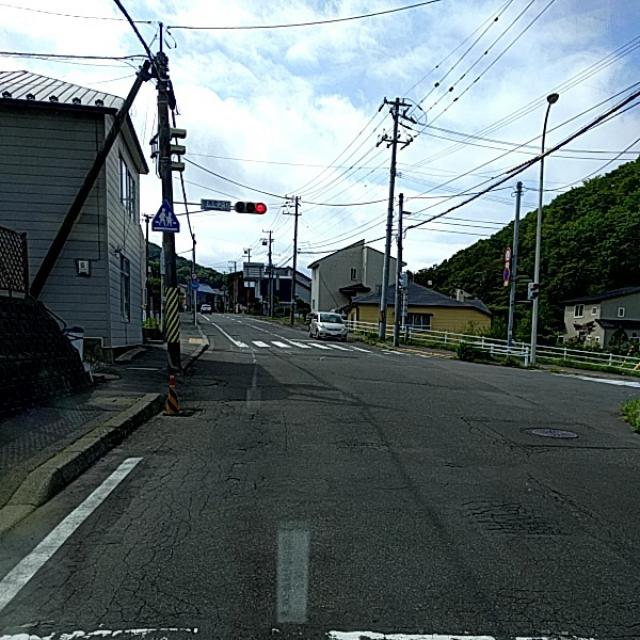pothole: (106, 422, 234, 632)
